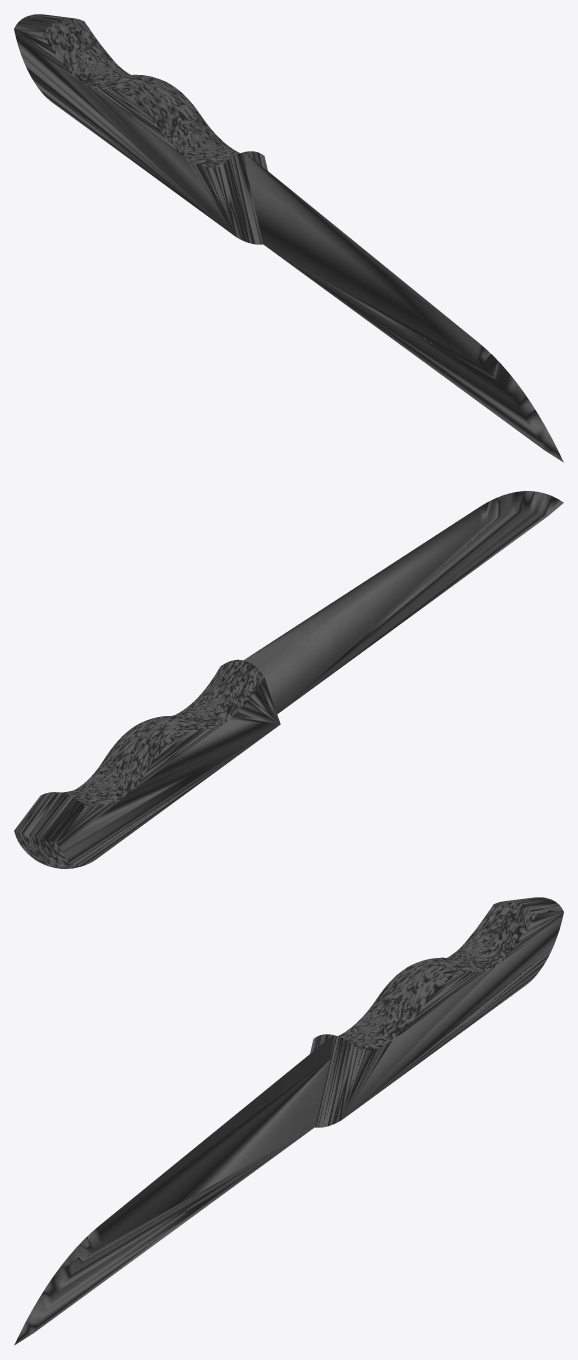
File: model_align.obj
3 views of the same model, one above another, from view 1: azimuth 30°, elevation 25°; view 2: azimuth 150°, elevation 25°; view 3: azimuth 330°, elevation 25° (orthographic).
Bounding box in the file's own units: 0.011 × 0.0183 × 0.2294.
